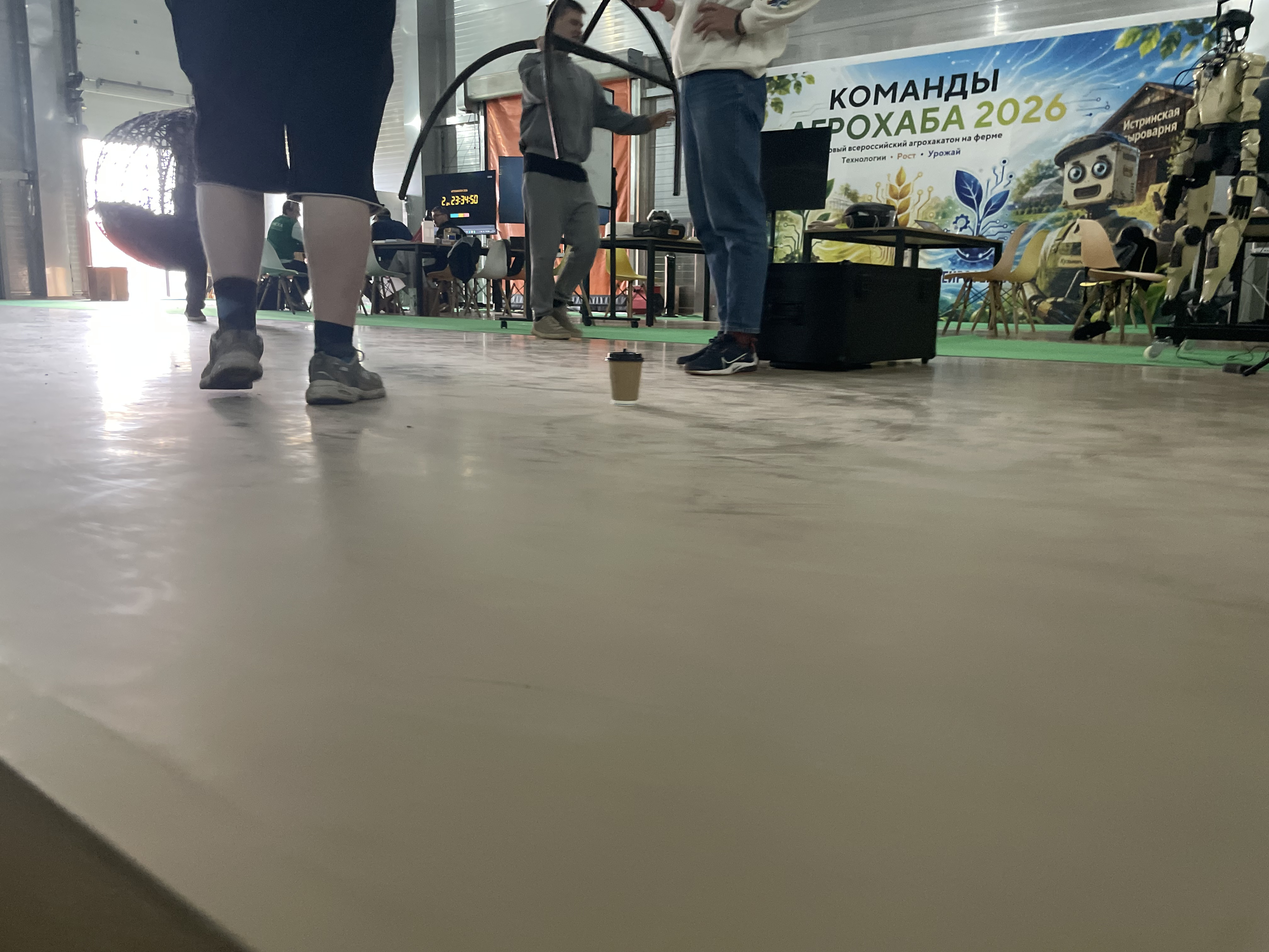cup: (605, 349, 644, 405)
